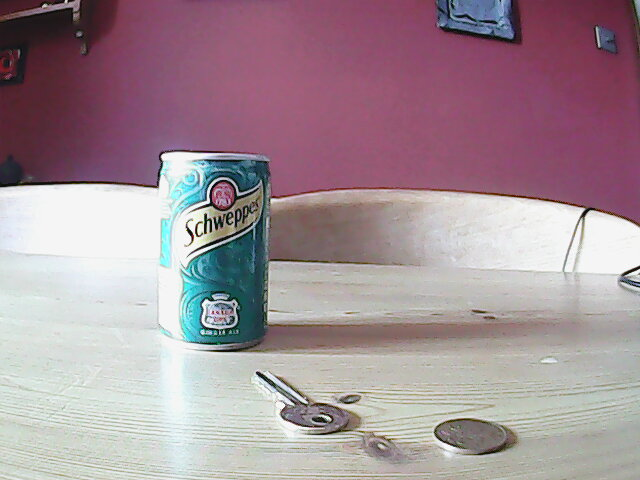Can: (153, 149, 271, 356)
Coin: (433, 415, 511, 458)
Key: (248, 367, 352, 437)
